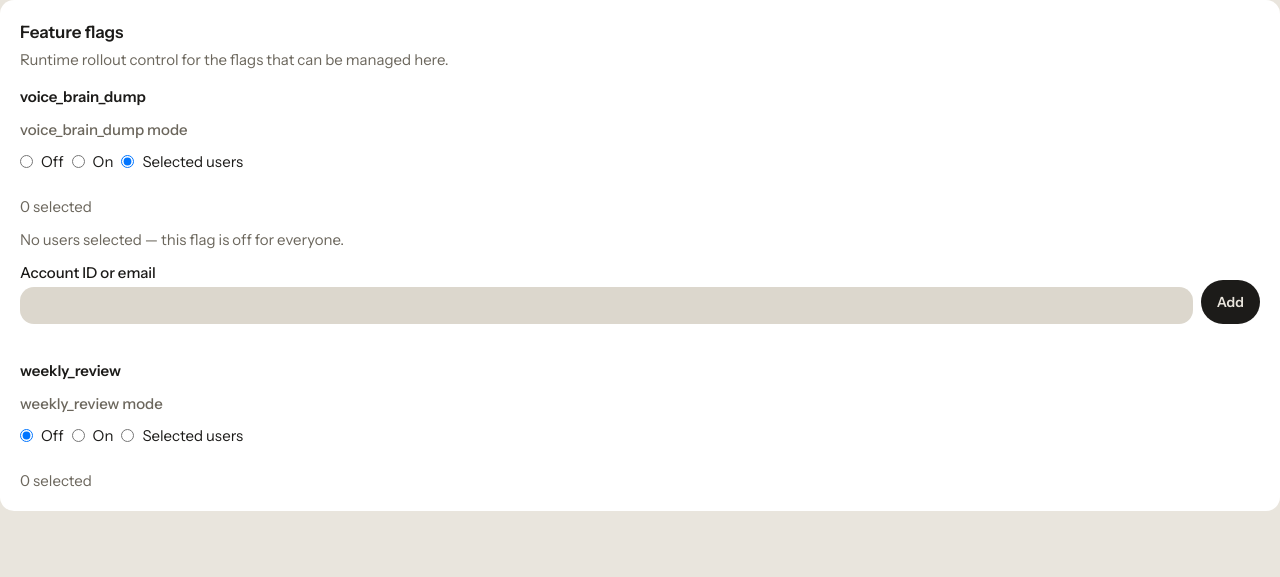
Scenario: AdminFeatureFlagsSection (010-FR-010, design F-01…F-13) › 010-FR-007: F-07 shows 009's own no-match copy and adds nobody
Expected: the element "voice_brain_dump" is shown, left=20, top=86, right=1260, bottom=324
Type "ghost@example.com" into the field labelled "Account ID or email". click: (606, 305)
box: left=20, top=287, right=1193, bottom=324
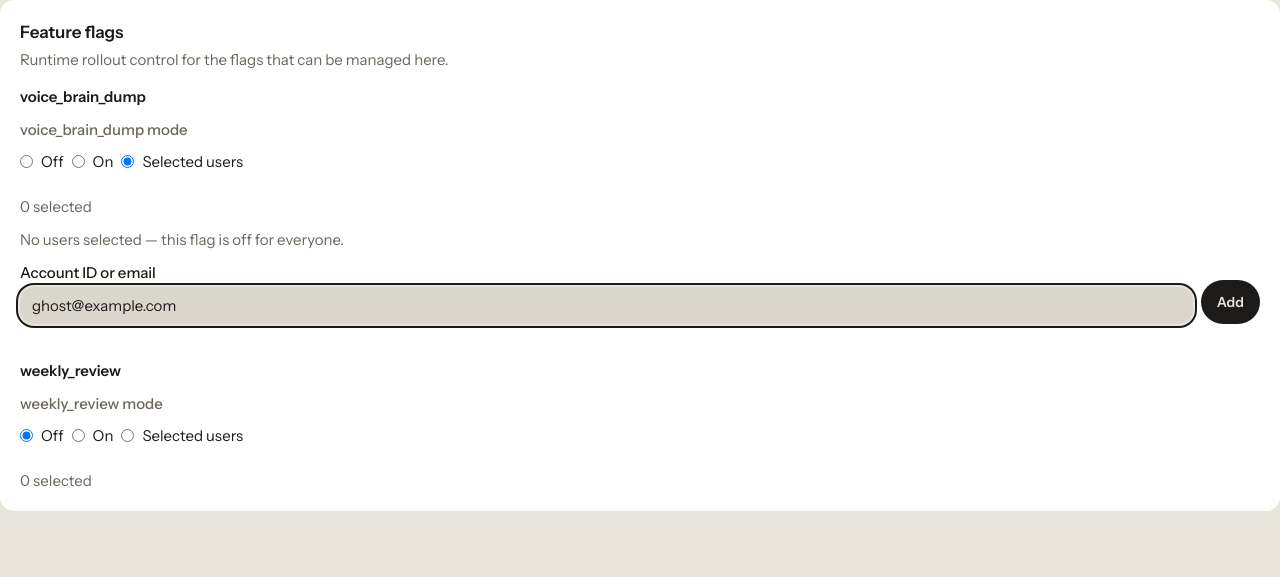
Click the button "Add". click: click(1230, 302)
box: left=1201, top=280, right=1260, bottom=324
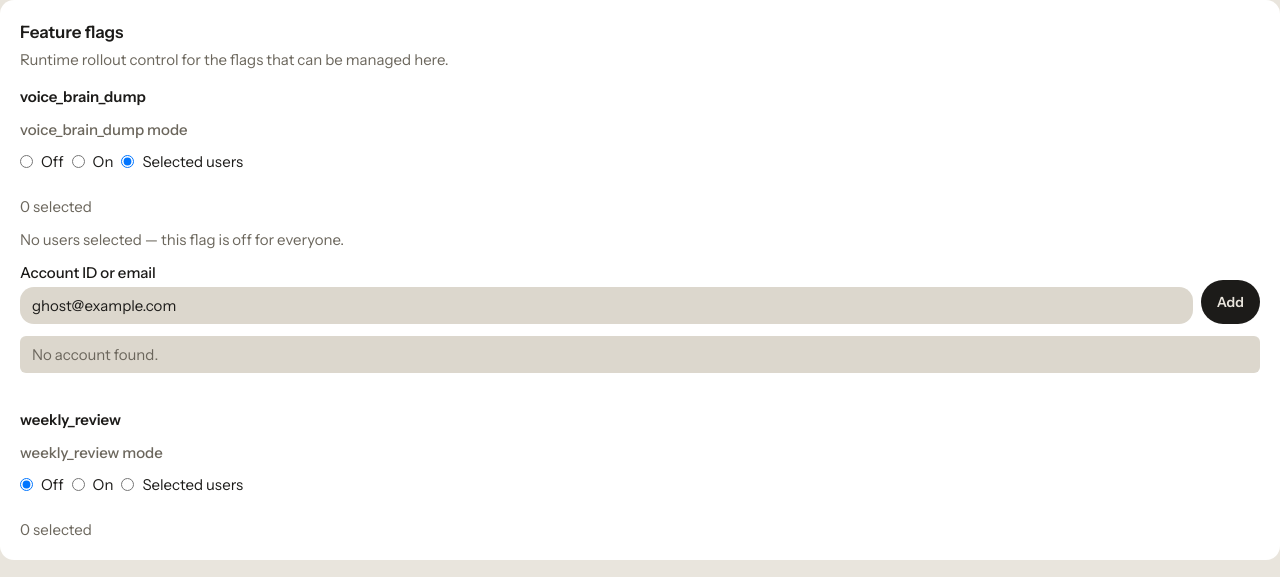
Expected: the 1st text "0 selected" is shown, left=20, top=197, right=92, bottom=216
Now the text "No account found." is shown, box left=20, top=336, right=1260, bottom=373
